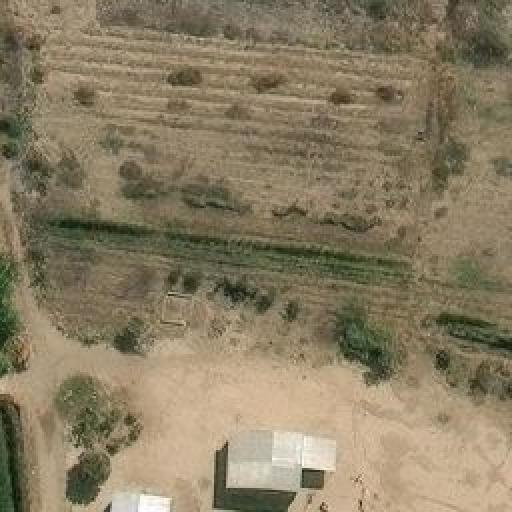manzanas: (219, 432, 335, 508), (111, 492, 175, 510)
